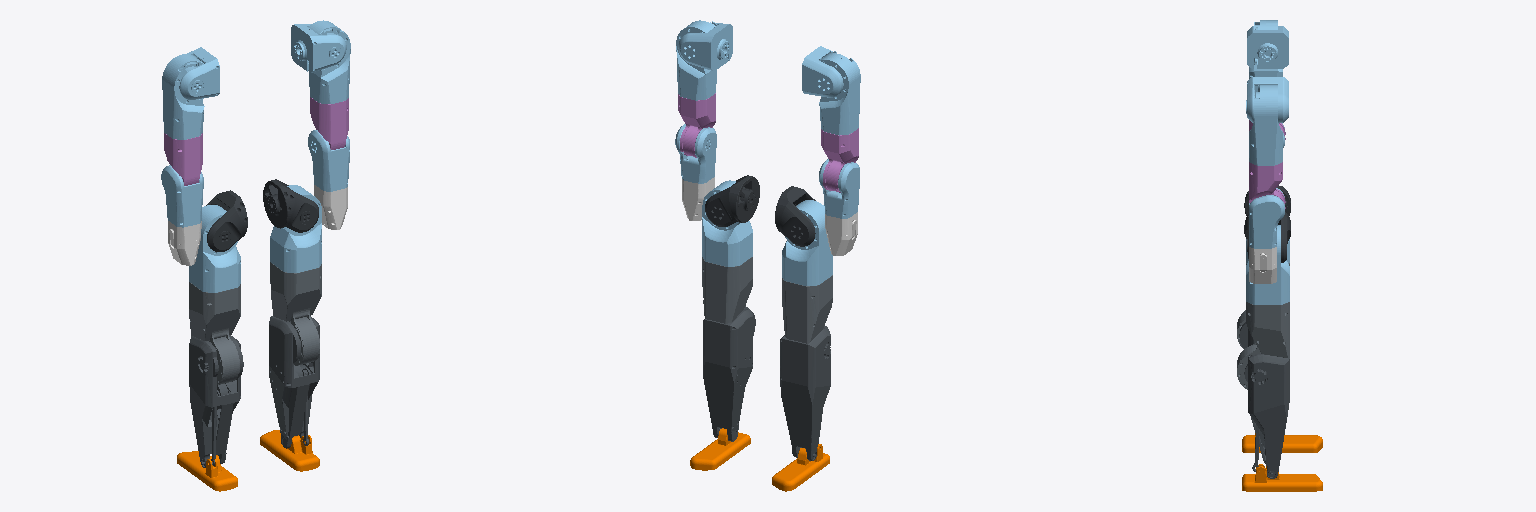
--- What the picture shows (computed from the rendered views, not written in the file) ---
3 views of the same robot in one strip: view 1: azimuth 30°, elevation 25°; view 2: azimuth 150°, elevation 25°; view 3: azimuth 270°, elevation 25° (orthographic).
Model robot_assy with 22 links and 21 joints (20 revolute, 1 fixed), rooted at base, posed all joints at 0.
Visible links, largest first — view 1: KB-D-401R_R_Shin_Drive, KB-D-401L_L_Shin_Drive, KB-D-301R_R_Femur_Lower_Drive, KB-D-301L_L_Femur_Lower_Drive, RS03_4, RS03_2, RS03, KB-D-102R_R_Hip_Yoke_Drive, KB-C-101R_R_Shoulder_Drive, RS03_3, L_Forearm_Upper_Drive, R_Forearm_Upper_Structural (+8 smaller); view 2: KB-D-401L_L_Shin_Drive, KB-D-401R_R_Shin_Drive, RS03_2, KB-D-301L_L_Femur_Lower_Drive, KB-D-301R_R_Femur_Lower_Drive, RS03_4, RS03, KB-D-102R_R_Hip_Yoke_Drive, KB-C-101R_R_Shoulder_Drive, RS03_3, KB-D-102L_L_Hip_Yoke_Drive, R_Forearm_Upper_Structural (+8 smaller); view 3: KB-D-401L_L_Shin_Drive, KB-D-301L_L_Femur_Lower_Drive, RS03_3, KB-C-101L_ShldYokeROLL, R_Forearm_Upper_Structural, KB-D-501L_L_LEG-FOOT, RS03, R_Bicep_Lower_Drive, KB-C-101R_R_Shoulder_Drive, KB-C-501X_Bayonet_Adapter_Hard_Stop, KB-D-501R_R_LEG-FOOT, RS03_4.
Link boxes in pixels (x1,y1,x2,y2): KB-D-401R_R_Shin_Drive: (189,335,243,467); KB-D-401L_L_Shin_Drive: (269,316,319,448); KB-D-301R_R_Femur_Lower_Drive: (189,282,240,384); KB-D-301L_L_Femur_Lower_Drive: (270,262,321,365); RS03_4: (162,54,204,139); RS03_2: (189,205,240,292); RS03: (270,185,321,272); KB-D-102R_R_Hip_Yoke_Drive: (263,179,318,232); KB-C-101R_R_Shoulder_Drive: (291,24,346,72); RS03_3: (308,20,350,103); L_Forearm_Upper_Drive: (161,165,203,227); R_Forearm_Upper_Structural: (308,130,349,191); KB-D-401L_L_Shin_Drive: (703,309,755,441); KB-D-401R_R_Shin_Drive: (780,328,830,460); RS03_2: (782,200,832,285); KB-D-301L_L_Femur_Lower_Drive: (702,257,752,323); KB-D-301R_R_Femur_Lower_Drive: (782,275,832,343); RS03_4: (819,51,860,135); RS03: (702,180,752,266); KB-D-102R_R_Hip_Yoke_Drive: (705,175,759,226); KB-C-101R_R_Shoulder_Drive: (678,23,732,71); RS03_3: (676,20,716,100); KB-D-102L_L_Hip_Yoke_Drive: (775,186,815,246); R_Forearm_Upper_Structural: (675,124,716,183); KB-D-401L_L_Shin_Drive: (1244,353,1289,478); KB-D-301L_L_Femur_Lower_Drive: (1237,302,1289,389); RS03_3: (1249,85,1282,165); KB-C-101L_ShldYokeROLL: (1247,26,1288,68); R_Forearm_Upper_Structural: (1249,188,1284,248); KB-D-501L_L_LEG-FOOT: (1242,464,1322,491); RS03: (1246,225,1289,304); R_Bicep_Lower_Drive: (1249,162,1285,208); KB-C-101R_R_Shoulder_Drive: (1246,77,1288,122); KB-C-501X_Bayonet_Adapter_Hard_Stop: (1249,247,1276,283); KB-D-501R_R_LEG-FOOT: (1242,433,1322,452); RS03_4: (1249,20,1282,78).
Size in the robot's own frame: 0.5139 by 0.2262 by 1.19 metres.
20 mesh visuals loaded from 21 distinct referenced files (20 binary STL); not drawn: 1 (reference not matched to a file when rendering).

The robot description file, URDF, robot "robot_assy":
<?xml version="1.0" ?>
<robot name="robot_assy">
  <link name="base">
    <inertial>
      <origin rpy="0 0 0" xyz="0 0 0"/>
      <mass value="0.001"/>
      <inertia ixx="0.000001" ixy="0" ixz="0" iyy="0.000001" iyz="0" izz="0.000001"/>
    </inertial>
  </link>
  <joint name="floating_base" type="fixed">
    <origin rpy="0 0 0" xyz="0 0 0"/>
    <parent link="base"/>
    <child link="KB-B-102B_TORSO_BOTTOM"/>
  </joint>
  <link name="KB-B-102B_TORSO_BOTTOM">
    <visual>
      <origin xyz="0 0 0" rpy="0 0 0"/>
      <geometry>
        <mesh filename="meshes/KB-B-102B_TORSO_BOTTOM.stl"/>
      </geometry>
      <material name="KB-B-102B_TORSO_BOTTOM_material">
        <color rgba="0.61568627 0.81176471 0.92941176 1"/>
      </material>
    </visual>
    <collision>
      <origin xyz="0 0 0" rpy="0 0 0"/>
      <geometry>
        <mesh filename="meshes/KB-B-102B_TORSO_BOTTOM.stl"/>
      </geometry>
    </collision>
    <inertial>
      <mass value="15.456196869999996"/>
      <inertia ixx="0.6144236576682701" iyy="0.6513734713020699" izz="0.07488731286920623" ixy="-0.00012571503911016428" ixz="-0.00146219277526155" iyz="-0.01686655149436703"/>
      <origin xyz="0.0003782656637492197 0.0026708360136527445 0.1600861519363398" rpy="0 0 0"/>
    </inertial>
  </link>
  <joint name="right_hip_pitch_04" type="revolute">
    <origin xyz="0.04704799199999996 -0.0007372588099980745 -0.07299347715499904" rpy="1.570796353589793 2.6794898300153136e-08 -1.570796373205102"/>
    <parent link="KB-B-102B_TORSO_BOTTOM"/>
    <child link="KB-D-102R_R_Hip_Yoke_Drive"/>
    <limit effort="80" velocity="5" lower="-1.9198622" upper="1.5707963"/>
    <axis xyz="0 0 1"/>
  </joint>
  <link name="KB-D-102R_R_Hip_Yoke_Drive">
    <visual>
      <origin xyz="0 0 0" rpy="0 0 0"/>
      <geometry>
        <mesh filename="meshes/KB-D-102R_R_Hip_Yoke_Drive.stl"/>
      </geometry>
      <material name="KB-D-102R_R_Hip_Yoke_Drive_material">
        <color rgba="0.2627451 0.28235294 0.30196078 1"/>
      </material>
    </visual>
    <collision>
      <origin xyz="0 0 0" rpy="0 0 0"/>
      <geometry>
        <mesh filename="meshes/KB-D-102R_R_Hip_Yoke_Drive.stl"/>
      </geometry>
    </collision>
    <inertial>
      <mass value="0.7105343159999999"/>
      <inertia ixx="0.0012846056614709512" iyy="0.0015499048649316174" izz="0.0017294271620225273" ixy="-8.74348882440443e-05" ixz="-9.375158902897823e-05" iyz="-0.00025185103126430607"/>
      <origin xyz="-0.00518705193700639 -0.002373719838251741 -0.03915745987700441" rpy="0 0 0"/>
    </inertial>
  </link>
  <joint name="left_hip_pitch_04" type="revolute">
    <origin xyz="-0.047048021999999995 -0.000737257000000005 -0.07299347924500096" rpy="-1.5707963 2.6794896523796297e-08 -1.5707963267948961"/>
    <parent link="KB-B-102B_TORSO_BOTTOM"/>
    <child link="KB-D-102L_L_Hip_Yoke_Drive"/>
    <limit effort="80" velocity="5" lower="-1.5707963" upper="1.9198622"/>
    <axis xyz="0 0 1"/>
  </joint>
  <link name="KB-D-102L_L_Hip_Yoke_Drive">
    <visual>
      <origin xyz="0 0 0" rpy="0 0 0"/>
      <geometry>
        <mesh filename="meshes/KB-D-102L_L_Hip_Yoke_Drive.stl"/>
      </geometry>
      <material name="KB-D-102L_L_Hip_Yoke_Drive_material">
        <color rgba="0.2627451 0.28235294 0.30196078 1"/>
      </material>
    </visual>
    <collision>
      <origin xyz="0 0 0" rpy="0 0 0"/>
      <geometry>
        <mesh filename="meshes/KB-D-102L_L_Hip_Yoke_Drive.stl"/>
      </geometry>
    </collision>
    <inertial>
      <mass value="0.710534346"/>
      <inertia ixx="0.0012869651899179624" iyy="0.0015439607861880997" izz="0.0017258416243540707" ixy="8.688641617783474e-05" ixz="-9.560898332685834e-05" iyz="0.00025320025256340403"/>
      <origin xyz="-0.005269236736187477 0.0024332109371640754 -0.039157406265559025" rpy="0 0 0"/>
    </inertial>
  </link>
  <joint name="left_shoulder_pitch_03" type="revolute">
    <origin xyz="0.1249499752752948 -0.000737260654998772 0.3375065237953634" rpy="1.570796364688602 -7.320510020392135e-08 -1.5707964000000025"/>
    <parent link="KB-B-102B_TORSO_BOTTOM"/>
    <child link="KB-C-101R_R_Shoulder_Drive"/>
    <limit effort="80" velocity="5" lower="-1.9198622" upper="3.4906585"/>
    <axis xyz="0 0 1"/>
  </joint>
  <link name="KB-C-101R_R_Shoulder_Drive">
    <visual>
      <origin xyz="0 0 0" rpy="0 0 0"/>
      <geometry>
        <mesh filename="meshes/KB-C-101R_R_Shoulder_Drive.stl"/>
      </geometry>
      <material name="KB-C-101R_R_Shoulder_Drive_material">
        <color rgba="0.61568627 0.81176471 0.92941176 1"/>
      </material>
    </visual>
    <collision>
      <origin xyz="0 0 0" rpy="0 0 0"/>
      <geometry>
        <mesh filename="meshes/KB-C-101R_R_Shoulder_Drive.stl"/>
      </geometry>
    </collision>
    <inertial>
      <mass value="0.5450769340000001"/>
      <inertia ixx="0.0009463345633721918" iyy="0.001367831779393941" izz="0.0011886349434901396" ixy="-3.9799527716347105e-06" ixz="-2.1979715288107744e-05" iyz="-6.048363704370602e-05"/>
      <origin xyz="-0.0049628393686060365 0.0033444089602305623 -0.044528158616558317" rpy="0 0 0"/>
    </inertial>
  </link>
  <joint name="right_shoulder_pitch_03" type="revolute">
    <origin xyz="-0.12495002472470498 -0.0007372555262804718 0.33750651980463664" rpy="-1.5707963182783953 2.6794895635617877e-08 1.5707962999999996"/>
    <parent link="KB-B-102B_TORSO_BOTTOM"/>
    <child link="KB-C-101L_ShldYokeROLL"/>
    <limit effort="80" velocity="5" lower="-1.9198622" upper="3.4906585"/>
    <axis xyz="0 0 -1"/>
  </joint>
  <link name="KB-C-101L_ShldYokeROLL">
    <visual>
      <origin xyz="0 0 0" rpy="0 0 0"/>
      <geometry>
        <mesh filename="meshes/KB-C-101L_ShldYokeROLL.stl"/>
      </geometry>
      <material name="KB-C-101L_ShldYokeROLL_material">
        <color rgba="0.61568627 0.81176471 0.92941176 1"/>
      </material>
    </visual>
    <collision>
      <origin xyz="0 0 0" rpy="0 0 0"/>
      <geometry>
        <mesh filename="meshes/KB-C-101L_ShldYokeROLL.stl"/>
      </geometry>
    </collision>
    <inertial>
      <mass value="0.5450985750000001"/>
      <inertia ixx="0.000946335188923059" iyy="0.0013557994541993801" izz="0.0011766514582420865" ixy="-5.197969406605575e-06" ixz="-2.673065152655313e-05" iyz="-6.0476019787477634e-05"/>
      <origin xyz="0.005189448927249461 -0.0033442798689079967 0.04452743143713337" rpy="0 0 0"/>
    </inertial>
  </link>
  <joint name="right_hip_roll_03" type="revolute">
    <origin xyz="-0.02925 -0.03 -0.071" rpy="0 -1.5707963 0"/>
    <parent link="KB-D-102R_R_Hip_Yoke_Drive"/>
    <child link="RS03"/>
    <limit effort="80" velocity="5" lower="-2.6179939" upper="0.20943951"/>
    <axis xyz="0 0 1"/>
  </joint>
  <link name="RS03">
    <visual>
      <origin xyz="0 0 0" rpy="0 0 0"/>
      <geometry>
        <mesh filename="meshes/RS03.stl"/>
      </geometry>
      <material name="RS03_material">
        <color rgba="0.61568627 0.81176471 0.92941176 1"/>
      </material>
    </visual>
    <collision>
      <origin xyz="0 0 0" rpy="0 0 0"/>
      <geometry>
        <mesh filename="meshes/RS03.stl"/>
      </geometry>
    </collision>
    <inertial>
      <mass value="2.5903163030000003"/>
      <inertia ixx="0.011063347679976337" iyy="0.0038037668340952352" izz="0.011579821564733453" ixy="-5.763247917489441e-05" ixz="1.0395585764019727e-06" iyz="-9.789352234790144e-05"/>
      <origin xyz="-0.0006771898283941686 -0.0582557273766471 -0.02828850020246948" rpy="0 0 0"/>
    </inertial>
  </link>
  <joint name="left_hip_roll_03" type="revolute">
    <origin xyz="-0.02925 0.03 -0.071" rpy="3.1415927 1.5707963 0"/>
    <parent link="KB-D-102L_L_Hip_Yoke_Drive"/>
    <child link="RS03_2"/>
    <limit effort="80" velocity="5" lower="-0.20943951" upper="2.6179939"/>
    <axis xyz="0 0 1"/>
  </joint>
  <link name="RS03_2">
    <visual>
      <origin xyz="0 0 0" rpy="0 0 0"/>
      <geometry>
        <mesh filename="meshes/RS03_2.stl"/>
      </geometry>
      <material name="RS03_material_2">
        <color rgba="0.61568627 0.81176471 0.92941176 1"/>
      </material>
    </visual>
    <collision>
      <origin xyz="0 0 0" rpy="0 0 0"/>
      <geometry>
        <mesh filename="meshes/RS03_2.stl"/>
      </geometry>
    </collision>
    <inertial>
      <mass value="2.590428564"/>
      <inertia ixx="0.011063775523078797" iyy="0.00380414415674446" izz="0.011580096572929934" ixy="5.7589862054239624e-05" ixz="-9.26085624896144e-07" iyz="-9.7961422821898e-05"/>
      <origin xyz="0.0006767801077187306 -0.05825706087927863 -0.028289463890326716" rpy="0 0 0"/>
    </inertial>
  </link>
  <joint name="left_shoulder_roll_03" type="revolute">
    <origin xyz="-0.02525 0 -0.075" rpy="0 -1.5707963 0"/>
    <parent link="KB-C-101R_R_Shoulder_Drive"/>
    <child link="RS03_3"/>
    <limit effort="80" velocity="5" lower="-1.4835299" upper="0.48869219"/>
    <axis xyz="0 0 1"/>
  </joint>
  <link name="RS03_3">
    <visual>
      <origin xyz="0 0 0" rpy="0 0 0"/>
      <geometry>
        <mesh filename="meshes/RS03_3.stl"/>
      </geometry>
      <material name="RS03_material_3">
        <color rgba="0.61568627 0.81176471 0.92941176 1"/>
      </material>
    </visual>
    <collision>
      <origin xyz="0 0 0" rpy="0 0 0"/>
      <geometry>
        <mesh filename="meshes/RS03_3.stl"/>
      </geometry>
    </collision>
    <inertial>
      <mass value="1.861434012"/>
      <inertia ixx="0.007688888113351309" iyy="0.002130291592508498" izz="0.0082354913293496" ixy="-0.0006961046779384793" ixz="-5.284277427058615e-06" iyz="-5.4504985911057796e-05"/>
      <origin xyz="-0.0055335420515801705 -0.044203985461663695 -0.0297112802863472" rpy="0 0 0"/>
    </inertial>
  </link>
  <joint name="right_shoulder_roll_03" type="revolute">
    <origin xyz="0.02525 0 0.075" rpy="3.1415927 -1.5707963 0"/>
    <parent link="KB-C-101L_ShldYokeROLL"/>
    <child link="RS03_4"/>
    <limit effort="80" velocity="5" lower="-0.48869219" upper="1.4835299"/>
    <axis xyz="0 0 1"/>
  </joint>
  <link name="RS03_4">
    <visual>
      <origin xyz="0 0 0" rpy="0 0 0"/>
      <geometry>
        <mesh filename="meshes/RS03_4.stl"/>
      </geometry>
      <material name="RS03_material_4">
        <color rgba="0.61568627 0.81176471 0.92941176 1"/>
      </material>
    </visual>
    <collision>
      <origin xyz="0 0 0" rpy="0 0 0"/>
      <geometry>
        <mesh filename="meshes/RS03_4.stl"/>
      </geometry>
    </collision>
    <inertial>
      <mass value="1.86146043"/>
      <inertia ixx="0.0076944721487699815" iyy="0.0021303412001471567" izz="0.008241064234760254" ixy="0.0006972997795164754" ixz="5.306507844118199e-06" iyz="-5.450827978575373e-05"/>
      <origin xyz="0.0055336383154532395 -0.04421963407414807 -0.02971155273896361" rpy="0 0 0"/>
    </inertial>
  </link>
  <joint name="right_hip_yaw_03" type="revolute">
    <origin xyz="0.0 -0.14175 -0.029799999999999997" rpy="-1.5707963071795865 0.0 0.0"/>
    <parent link="RS03"/>
    <child link="KB-D-301L_L_Femur_Lower_Drive"/>
    <limit effort="80" velocity="5" lower="-1.5707963" upper="1.9198622"/>
    <axis xyz="0 0 1"/>
  </joint>
  <link name="KB-D-301L_L_Femur_Lower_Drive">
    <visual>
      <origin xyz="0 0 0" rpy="0 0 0"/>
      <geometry>
        <mesh filename="meshes/KB-D-301L_L_Femur_Lower_Drive.stl"/>
      </geometry>
      <material name="KB-D-301L_L_Femur_Lower_Drive_material">
        <color rgba="0.43921569 0.4745098 0.50196078 1"/>
      </material>
    </visual>
    <collision>
      <origin xyz="0 0 0" rpy="0 0 0"/>
      <geometry>
        <mesh filename="meshes/KB-D-301L_L_Femur_Lower_Drive.stl"/>
      </geometry>
    </collision>
    <inertial>
      <mass value="2.5567669129999997"/>
      <inertia ixx="0.018024794948199297" iyy="0.0163673891495407" izz="0.004728343934442664" ixy="-0.00023449626521675014" ixz="0.0012473778191338673" iyz="0.0018442578166810732"/>
      <origin xyz="-0.00013852566602517546 0.010510826872415934 -0.16247625201480148" rpy="0 0 0"/>
    </inertial>
  </link>
  <joint name="left_shoulder_yaw_02" type="revolute">
    <origin xyz="-0.013 -0.14099999871210736 -0.03025020663762125" rpy="-1.570796207179587 0.0 0.0"/>
    <parent link="RS03_3"/>
    <child link="R_Bicep_Lower_Drive"/>
    <limit effort="80" velocity="5" lower="-1.7453293" upper="1.7453293"/>
    <axis xyz="0 0 1"/>
  </joint>
  <link name="R_Bicep_Lower_Drive">
    <visual>
      <origin xyz="0 0 0" rpy="0 0 0"/>
      <geometry>
        <mesh filename="meshes/R_Bicep_Lower_Drive.stl"/>
      </geometry>
      <material name="R_Bicep_Lower_Drive_material">
        <color rgba="0.76470588 0.54509804 0.80392157 1"/>
      </material>
    </visual>
    <collision>
      <origin xyz="0 0 0" rpy="0 0 0"/>
      <geometry>
        <mesh filename="meshes/R_Bicep_Lower_Drive.stl"/>
      </geometry>
    </collision>
    <inertial>
      <mass value="0.8639227300000001"/>
      <inertia ixx="0.003003535191347657" iyy="0.0027890615217899565" izz="0.0008941286732271809" ixy="-1.8691791021933398e-05" ixz="-0.00019096816629957163" iyz="-0.00016325236783109709"/>
      <origin xyz="0.0017411616388135823 -0.0031280919212400083 -0.09610515410729122" rpy="0 0 0"/>
    </inertial>
  </link>
  <joint name="left_hip_yaw_03" type="revolute">
    <origin xyz="0.0 -0.14175000000000001 -0.029799999999999997" rpy="-1.5707963071795865 0.0 0.0"/>
    <parent link="RS03_2"/>
    <child link="KB-D-301R_R_Femur_Lower_Drive"/>
    <limit effort="80" velocity="5" lower="-1.5707963" upper="1.9198622"/>
    <axis xyz="0 0 1"/>
  </joint>
  <link name="KB-D-301R_R_Femur_Lower_Drive">
    <visual>
      <origin xyz="0 0 0" rpy="0 0 0"/>
      <geometry>
        <mesh filename="meshes/KB-D-301R_R_Femur_Lower_Drive.stl"/>
      </geometry>
      <material name="KB-D-301R_R_Femur_Lower_Drive_material">
        <color rgba="0.43921569 0.4745098 0.50196078 1"/>
      </material>
    </visual>
    <collision>
      <origin xyz="0 0 0" rpy="0 0 0"/>
      <geometry>
        <mesh filename="meshes/KB-D-301R_R_Femur_Lower_Drive.stl"/>
      </geometry>
    </collision>
    <inertial>
      <mass value="2.556833893"/>
      <inertia ixx="0.0180255703488591" iyy="0.01636828111435652" izz="0.004728526458500275" ixy="0.0002345676476096076" ixz="-0.0012473749274440039" iyz="0.0018441744522154672"/>
      <origin xyz="0.0001385866832111536 0.010511168723892655 -0.16247356872473834" rpy="0 0 0"/>
    </inertial>
  </link>
  <joint name="right_shoulder_yaw_02" type="revolute">
    <origin xyz="0.012999999999999998 -0.14099999871210692 -0.03025021299389611" rpy="-1.5707962143591734 0.0 0.0"/>
    <parent link="RS03_4"/>
    <child link="L_Bicep_Lower_Drive"/>
    <limit effort="80" velocity="5" lower="-1.7453293" upper="1.7453293"/>
    <axis xyz="0 0 1"/>
  </joint>
  <link name="L_Bicep_Lower_Drive">
    <visual>
      <origin xyz="0 0 0" rpy="0 0 0"/>
      <geometry>
        <mesh filename="meshes/L_Bicep_Lower_Drive.stl"/>
      </geometry>
      <material name="L_Bicep_Lower_Drive_material">
        <color rgba="0.76470588 0.54509804 0.80392157 1"/>
      </material>
    </visual>
    <collision>
      <origin xyz="0 0 0" rpy="0 0 0"/>
      <geometry>
        <mesh filename="meshes/L_Bicep_Lower_Drive.stl"/>
      </geometry>
    </collision>
    <inertial>
      <mass value="0.86429688"/>
      <inertia ixx="0.0030043829770575164" iyy="0.002790430770809992" izz="0.0008948845399314567" ixy="1.8504706638363537e-05" ixz="0.0001903919532739914" iyz="-0.00016341724955856588"/>
      <origin xyz="-0.0017237583507574645 -0.0031233771479135383 -0.09608773793030688" rpy="0 0 0"/>
    </inertial>
  </link>
  <joint name="right_knee_04" type="revolute">
    <origin xyz="-0.019600005492953775 0.02099999892954119 -0.21199999882760728" rpy="1.5707963646886023 -2.6794896967885506e-08 1.5707963464102066"/>
    <parent link="KB-D-301L_L_Femur_Lower_Drive"/>
    <child link="KB-D-401L_L_Shin_Drive"/>
    <limit effort="80" velocity="5" lower="0" upper="2.6703538"/>
    <axis xyz="0 0 1"/>
  </joint>
  <link name="KB-D-401L_L_Shin_Drive">
    <visual>
      <origin xyz="0 0 0" rpy="0 0 0"/>
      <geometry>
        <mesh filename="meshes/KB-D-401L_L_Shin_Drive.stl"/>
      </geometry>
      <material name="KB-D-401L_L_Shin_Drive_material">
        <color rgba="0.34901961 0.37647059 0.4 1"/>
      </material>
    </visual>
    <collision>
      <origin xyz="0 0 0" rpy="0 0 0"/>
      <geometry>
        <mesh filename="meshes/KB-D-401L_L_Shin_Drive.stl"/>
      </geometry>
    </collision>
    <inertial>
      <mass value="2.062098443"/>
      <inertia ixx="0.018129915712165132" iyy="0.0037884644914203086" izz="0.01786986766558831" ixy="-0.00039849765062247906" ixz="-2.6959197135713885e-05" iyz="0.00031870725461154934"/>
      <origin xyz="-0.026127567283860474 -0.09759272580605333 0.02019484301225384" rpy="0 0 0"/>
    </inertial>
  </link>
  <joint name="left_elbow_02" type="revolute">
    <origin xyz="0.01749999579319584 -0.010000000468910617 -0.13699999843121974" rpy="-1.5707963646886025 2.6794895413573272e-08 1.5707962999999985"/>
    <parent link="R_Bicep_Lower_Drive"/>
    <child link="R_Forearm_Upper_Structural"/>
    <limit effort="80" velocity="5" lower="0" upper="2.5307274"/>
    <axis xyz="0 0 1"/>
  </joint>
  <link name="R_Forearm_Upper_Structural">
    <visual>
      <origin xyz="0 0 0" rpy="0 0 0"/>
      <geometry>
        <mesh filename="meshes/R_Forearm_Upper_Structural.stl"/>
      </geometry>
      <material name="R_Forearm_Upper_Structural_material">
        <color rgba="0.61568627 0.81176471 0.92941176 1"/>
      </material>
    </visual>
    <collision>
      <origin xyz="0 0 0" rpy="0 0 0"/>
      <geometry>
        <mesh filename="meshes/R_Forearm_Upper_Structural.stl"/>
      </geometry>
    </collision>
    <inertial>
      <mass value="0.67694019"/>
      <inertia ixx="0.0013931469503859005" iyy="0.0006896925851535309" izz="0.0013834881101174952" ixy="-4.759557568877259e-05" ixz="-1.5982911409710554e-05" iyz="-7.407859652350231e-05"/>
      <origin xyz="0.01609026283073225 0.05904894315785105 0.014469685328960948" rpy="0 0 0"/>
    </inertial>
  </link>
  <joint name="right_ankle_02" type="revolute">
    <origin xyz="-0.0313 -0.2925 0.005" rpy="0 0 0"/>
    <parent link="KB-D-401L_L_Shin_Drive"/>
    <child link="KB-D-501L_L_LEG-FOOT"/>
    <limit effort="80" velocity="5" lower="-0.29670597" upper="0.78539816"/>
    <axis xyz="0 0 -1"/>
  </joint>
  <link name="KB-D-501L_L_LEG-FOOT">
    <visual>
      <origin xyz="0 0 0" rpy="0 0 0"/>
      <geometry>
        <mesh filename="meshes/KB-D-501L_L_LEG-FOOT.stl"/>
      </geometry>
      <material name="KB-D-501L_L_LEG-FOOT_material">
        <color rgba="0.97254902 0.52941176 0.0039215686 1"/>
      </material>
    </visual>
    <collision>
      <origin xyz="0 0 0" rpy="0 0 0"/>
      <geometry>
        <mesh filename="meshes/KB-D-501L_L_LEG-FOOT.stl"/>
      </geometry>
    </collision>
    <inertial>
      <mass value="0.49274759"/>
      <inertia ixx="0.00028345878071963943" iyy="0.0015602852574658024" izz="0.0014852257414326982" ixy="-8.505877006557034e-05" ixz="2.139055937139473e-05" iyz="1.8360604468891496e-05"/>
      <origin xyz="-0.013264629288447597 -0.028577941761324492 0.011944320235142284" rpy="0 0 0"/>
    </inertial>
  </link>
  <joint name="left_knee_04" type="revolute">
    <origin xyz="0.019600006618339327 0.02099999745046268 -0.2119999988276073" rpy="-1.5707963646886016 2.6794893859261038e-08 1.5707962535897926"/>
    <parent link="KB-D-301R_R_Femur_Lower_Drive"/>
    <child link="KB-D-401R_R_Shin_Drive"/>
    <limit effort="80" velocity="5" lower="-2.6703538" upper="0"/>
    <axis xyz="0 0 1"/>
  </joint>
  <link name="KB-D-401R_R_Shin_Drive">
    <visual>
      <origin xyz="0 0 0" rpy="0 0 0"/>
      <geometry>
        <mesh filename="meshes/KB-D-401R_R_Shin_Drive.stl"/>
      </geometry>
      <material name="KB-D-401R_R_Shin_Drive_material">
        <color rgba="0.34901961 0.37647059 0.4 1"/>
      </material>
    </visual>
    <collision>
      <origin xyz="0 0 0" rpy="0 0 0"/>
      <geometry>
        <mesh filename="meshes/KB-D-401R_R_Shin_Drive.stl"/>
      </geometry>
    </collision>
    <inertial>
      <mass value="2.0622413400000004"/>
      <inertia ixx="0.018159448746640505" iyy="0.0038004776595966347" izz="0.01785348023026493" ixy="0.00043728860807293676" ixz="-2.862847535461651e-05" iyz="-0.00031826862552938726"/>
      <origin xyz="-0.026271134321132848 0.09758948179643992 0.02046254186557558" rpy="0 0 0"/>
    </inertial>
  </link>
  <joint name="right_elbow_02" type="revolute">
    <origin xyz="-0.017499996329093773 -0.009999999531089408 -0.1370000008185232" rpy="1.5707962889011908 2.6794895413573272e-08 1.5707962999999994"/>
    <parent link="L_Bicep_Lower_Drive"/>
    <child link="L_Forearm_Upper_Drive"/>
    <limit effort="80" velocity="5" lower="-2.5307274" upper="0"/>
    <axis xyz="0 0 1"/>
  </joint>
  <link name="L_Forearm_Upper_Drive">
    <visual>
      <origin xyz="0 0 0" rpy="0 0 0"/>
      <geometry>
        <mesh filename="meshes/L_Forearm_Upper_Drive.stl"/>
      </geometry>
      <material name="L_Forearm_Upper_Drive_material">
        <color rgba="0.61568627 0.81176471 0.92941176 1"/>
      </material>
    </visual>
    <collision>
      <origin xyz="0 0 0" rpy="0 0 0"/>
      <geometry>
        <mesh filename="meshes/L_Forearm_Upper_Drive.stl"/>
      </geometry>
    </collision>
    <inertial>
      <mass value="0.67693693"/>
      <inertia ixx="0.001393125691692786" iyy="0.0006896973269303887" izz="0.001383494899296689" ixy="4.762193882034579e-05" ixz="-1.5953701697899853e-05" iyz="7.408667688791305e-05"/>
      <origin xyz="0.01608930935043711 -0.05904931390894698 0.014469293934365857" rpy="0 0 0"/>
    </inertial>
  </link>
  <joint name="left_ankle_02" type="revolute">
    <origin xyz="-0.0313 0.2925 0.005" rpy="3.1415927 0 0"/>
    <parent link="KB-D-401R_R_Shin_Drive"/>
    <child link="KB-D-501R_R_LEG-FOOT"/>
    <limit effort="80" velocity="5" lower="-0.29670597" upper="0.78539816"/>
    <axis xyz="0 0 1"/>
  </joint>
  <link name="KB-D-501R_R_LEG-FOOT">
    <visual>
      <origin xyz="0 0 0" rpy="0 0 0"/>
      <geometry>
        <mesh filename="meshes/KB-D-501R_R_LEG-FOOT.stl"/>
      </geometry>
      <material name="KB-D-501R_R_LEG-FOOT_material">
        <color rgba="0.97254902 0.52941176 0.0039215686 1"/>
      </material>
    </visual>
    <collision>
      <origin xyz="0 0 0" rpy="0 0 0"/>
      <geometry>
        <mesh filename="meshes/KB-D-501R_R_LEG-FOOT.stl"/>
      </geometry>
    </collision>
    <inertial>
      <mass value="0.49274711000000004"/>
      <inertia ixx="0.00028345862075299837" iyy="0.0015602847602564514" izz="0.0014852253016744811" ixy="-8.505876969590044e-05" ixz="-2.1390608641908584e-05" iyz="-1.836059342349134e-05"/>
      <origin xyz="-0.013264634594717278 -0.028577942366742486 -0.011944334277895376" rpy="0 0 0"/>
    </inertial>
  </link>
  <joint name="left_wrist_02" type="revolute">
    <origin xyz="0.017350000026794897 0.1055 0.018" rpy="1.5707963999999996 1.5707963000000005 0.0"/>
    <parent link="R_Forearm_Upper_Structural"/>
    <child link="KB-C-501X_Bayonet_Adapter_Hard_Stop"/>
    <limit effort="80" velocity="5" lower="-1.7453293" upper="1.7453293"/>
    <axis xyz="0 0 1"/>
  </joint>
  <link name="KB-C-501X_Bayonet_Adapter_Hard_Stop">
    <visual>
      <origin xyz="0 0 0" rpy="0 0 0"/>
      <geometry>
        <mesh filename="meshes/KB-C-501X_Bayonet_Adapter_Hard_Stop.stl"/>
      </geometry>
      <material name="KB-C-501X_Bayonet_Adapter_Hard_Stop_material">
        <color rgba="0.91764706 0.91764706 0.91764706 1"/>
      </material>
    </visual>
    <collision>
      <origin xyz="0 0 0" rpy="0 0 0"/>
      <geometry>
        <mesh filename="meshes/KB-C-501X_Bayonet_Adapter_Hard_Stop.stl"/>
      </geometry>
    </collision>
    <inertial>
      <mass value="0.571798567"/>
      <inertia ixx="0.0007498682482275756" iyy="0.0007200954438047711" izz="0.0005812785366945832" ixy="-6.641019866123079e-08" ixz="-1.1685969335673898e-05" iyz="-2.75550294377841e-07"/>
      <origin xyz="-0.0025711914314223063 3.507378735866289e-06 -0.03937061937464469" rpy="0 0 0"/>
    </inertial>
  </link>
  <joint name="right_wrist_02" type="revolute">
    <origin xyz="0.017349999973205105 -0.1055 0.018" rpy="1.5707963000000003 -1.5707963 0.0"/>
    <parent link="L_Forearm_Upper_Drive"/>
    <child link="KB-C-501X_Bayonet_Adapter_Hard_Stop_2"/>
    <limit effort="80" velocity="5" lower="-1.7453293" upper="1.7453293"/>
    <axis xyz="0 0 -1"/>
  </joint>
  <link name="KB-C-501X_Bayonet_Adapter_Hard_Stop_2">
    <visual>
      <origin xyz="0 0 0" rpy="0 0 0"/>
      <geometry>
        <mesh filename="meshes/KB-C-501X_Bayonet_Adapter_Hard_Stop_2.stl"/>
      </geometry>
      <material name="KB-C-501X_Bayonet_Adapter_Hard_Stop_material_2">
        <color rgba="0.91764706 0.91764706 0.91764706 1"/>
      </material>
    </visual>
    <collision>
      <origin xyz="0 0 0" rpy="0 0 0"/>
      <geometry>
        <mesh filename="meshes/KB-C-501X_Bayonet_Adapter_Hard_Stop_2.stl"/>
      </geometry>
    </collision>
    <inertial>
      <mass value="0.571798567"/>
      <inertia ixx="0.0007498682482197616" iyy="0.000720095439536694" izz="0.0005812785324046792" ixy="6.641078292707423e-08" ixz="-1.1685972915870608e-05" iyz="2.755447986676417e-07"/>
      <origin xyz="0.0025711916062907607 3.5075700050043644e-06 0.039370619375316135" rpy="0 0 0"/>
    </inertial>
  </link>
</robot>
